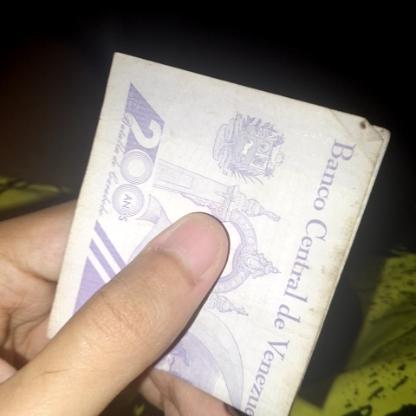ten-back-vef: (40, 49, 398, 416)
